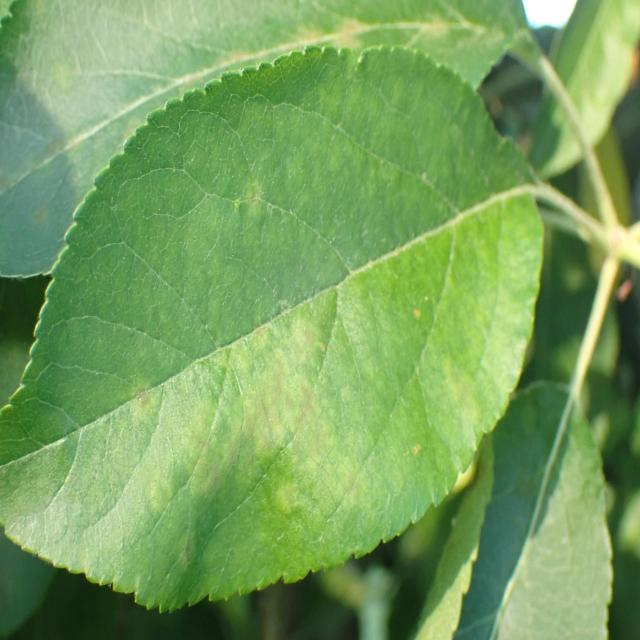healthy: (0, 42, 546, 612), (0, 0, 528, 282), (412, 379, 614, 640)
